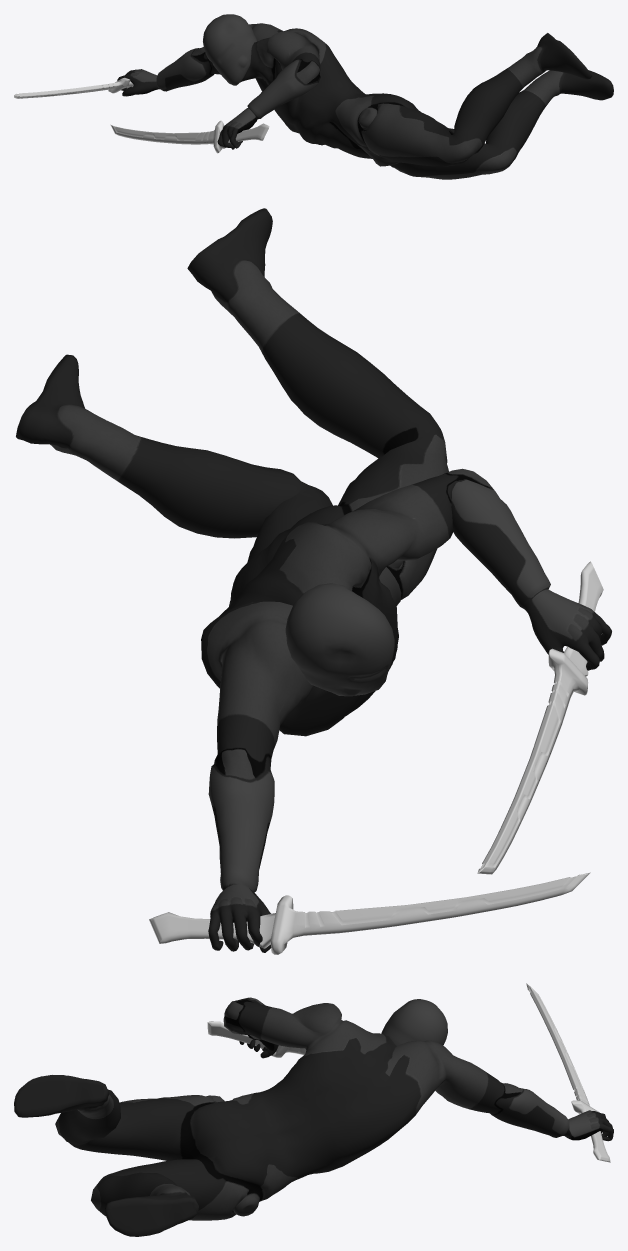
The picture shows the model from 3 angles, top to bottom: view 1: azimuth 30°, elevation 25°; view 2: azimuth 150°, elevation 25°; view 3: azimuth 270°, elevation 25°; orthographic projection. The views are drawn at different scales.
Visible parts, largest first — view 1: Cyborg_Ninja_Killer, Sword_l, Sword_l001; view 2: Cyborg_Ninja_Killer, Sword_l001, Sword_l; view 3: Cyborg_Ninja_Killer, Sword_l001, Sword_l.
Boxes of the visible parts, x1,y1,x2,y2 form: Cyborg_Ninja_Killer: (117, 14, 613, 179); Sword_l: (110, 120, 269, 153); Sword_l001: (14, 77, 133, 98); Cyborg_Ninja_Killer: (16, 208, 611, 952); Sword_l001: (149, 872, 590, 954); Sword_l: (477, 561, 603, 874); Cyborg_Ninja_Killer: (14, 997, 613, 1236); Sword_l001: (526, 983, 610, 1162); Sword_l: (207, 1021, 306, 1057).
Bounding box in the file's own units: 190 × 66 × 183.
